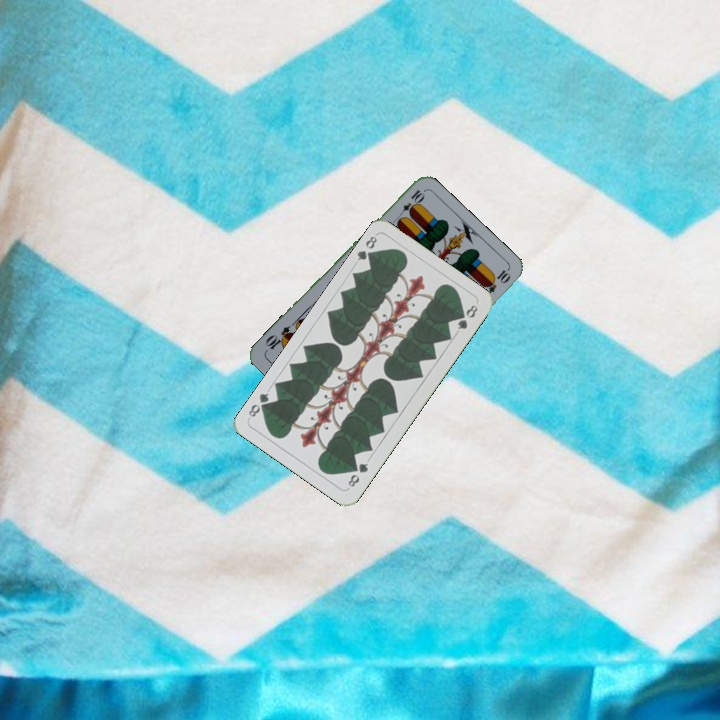E10: (394, 186, 426, 221)
G8: (353, 231, 380, 264), (344, 459, 371, 490)
